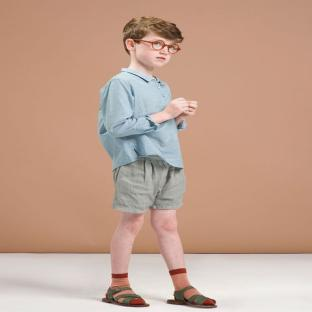Human: (98, 17, 216, 307)
